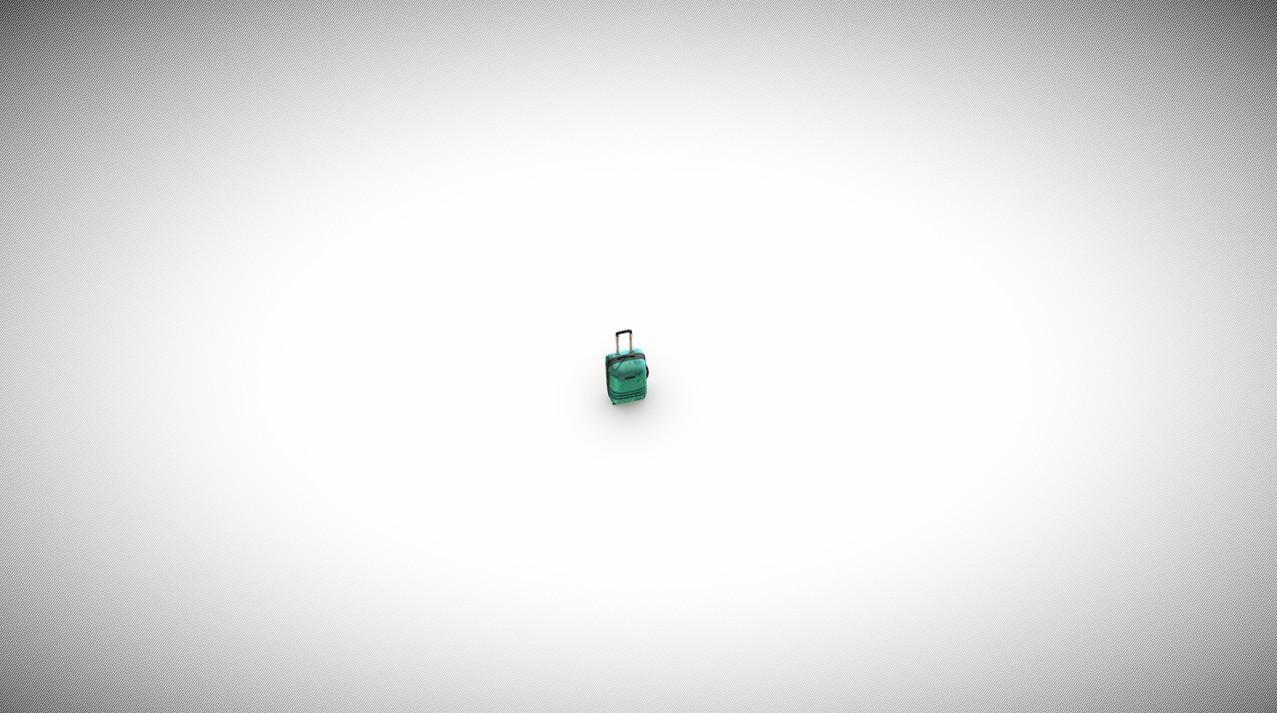Suitcase: (603, 327, 649, 406)
